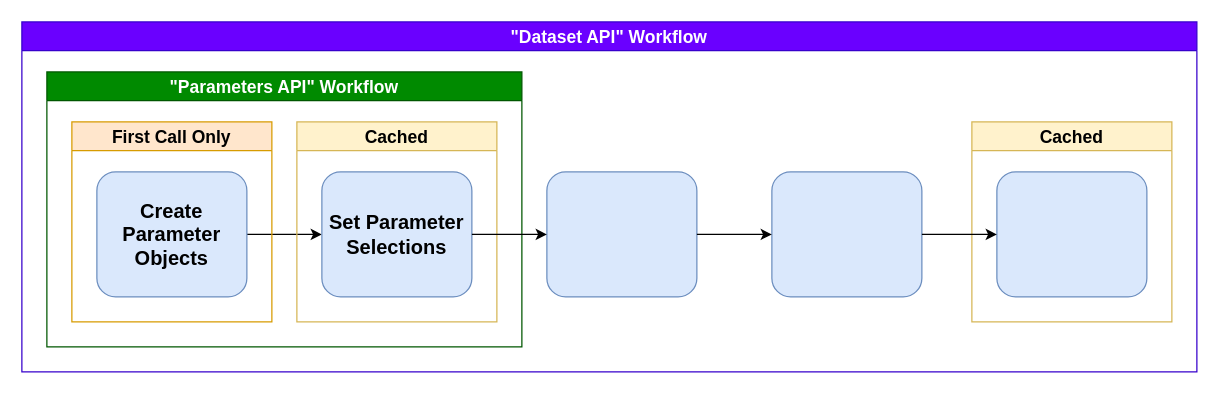
Image size: 1219x394. Some labels were removed from this diagram. The centre of each missing label's shape, as x and y in pixels:
"Create Database Views" goes at point 846,234.
"Create Final View" goes at point 1071,234.
"Set Context Variables" goes at point 621,234.
